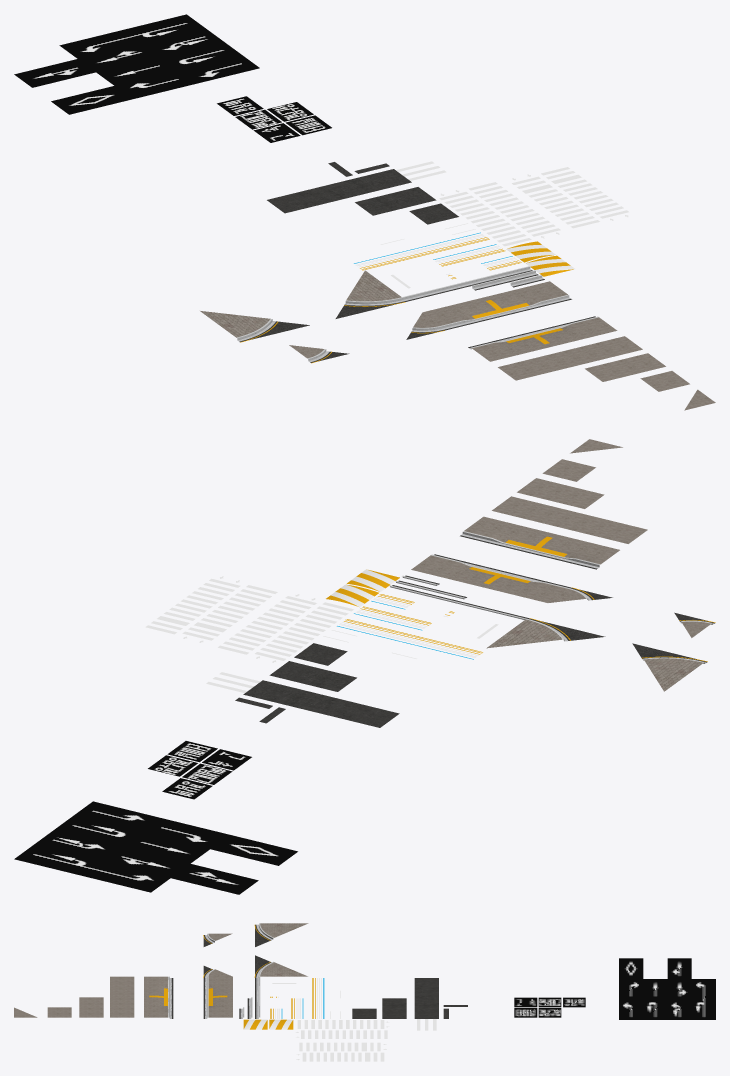
Rendered from RoadModuler.fbx.
3 renders of one model, top to bottom at view 1: azimuth 30°, elevation 25°; view 2: azimuth 150°, elevation 25°; view 3: azimuth 270°, elevation 25°, orthographic. The views are drawn at different scales.
Visible parts, largest first — view 1: Pavers_Crosswalk_6.5m, Pavers_Crosswalk_6.5m_Re, 긴좌회전유턴, Pavers_4, Road_4, Pavers_Curve_2, Pavers_Curve_2_Re, 유턴, Road_2, 우회전, 직진우회전, 횡단보도예고 (+11 smaller); view 2: Pavers_Crosswalk_6.5m_Re, Pavers_Crosswalk_6.5m, Road_4, 긴좌회전유턴, Pavers_4, Pavers_Curve_2, Pavers_Curve_2_Re, 유턴, 좌회전유턴, 직진우회전, Road_2, Pavers_2 (+9 smaller); view 3: Pavers_Crosswalk_6.5m, Pavers_Crosswalk_6.5m_Re, Pavers_4, Road_4, 긴좌회전유턴, Pavers_Curve_2_Re, Pavers_Curve_2, Pavers_2, Road_2, 유턴, 좌회전, 좌회전유턴 (+19 smaller).
Part boxes in pixels (x1,y1,x2,y2): Pavers_Crosswalk_6.5m: (423, 281, 571, 330); Pavers_Crosswalk_6.5m_Re: (468, 316, 617, 361); 긴좌회전유턴: (59, 14, 204, 58); Pavers_4: (498, 336, 642, 380); Road_4: (267, 169, 411, 213); Pavers_Curve_2: (335, 270, 405, 318); Pavers_Curve_2_Re: (200, 311, 309, 342); 유턴: (160, 41, 241, 70); Road_2: (355, 187, 436, 215); 우회전: (115, 70, 196, 98); 직진우회전: (78, 43, 159, 72); 횡단보도예고: (51, 86, 132, 114); Pavers_Crosswalk_6.5m_Re: (460, 516, 619, 569); Pavers_Crosswalk_6.5m: (411, 554, 571, 602); Road_4: (243, 680, 399, 727); 긴좌회전유턴: (14, 845, 170, 892); Pavers_4: (492, 496, 647, 543); Pavers_Curve_2: (486, 618, 605, 648); Pavers_Curve_2_Re: (632, 643, 707, 691); 유턴: (54, 816, 141, 846); 좌회전유턴: (34, 830, 121, 861); 직진우회전: (102, 847, 189, 877); Road_2: (269, 661, 356, 691); Pavers_2: (517, 478, 604, 508); Pavers_Crosswalk_6.5m: (203, 976, 232, 1018); Pavers_Crosswalk_6.5m_Re: (144, 976, 173, 1018); Pavers_4: (110, 976, 134, 1017); Road_4: (414, 978, 438, 1018); 긴좌회전유턴: (691, 979, 715, 1019); Pavers_Curve_2_Re: (254, 923, 308, 946); Pavers_Curve_2: (254, 955, 307, 977); Pavers_2: (79, 997, 103, 1017); Road_2: (382, 998, 406, 1018); 유턴: (643, 999, 667, 1019); 좌회전: (619, 999, 643, 1019); 좌회전유턴: (667, 999, 691, 1019).
Bounding box in the file's own units: 46.77 × 0.2 × 101.
11 materials, 6 textured.
